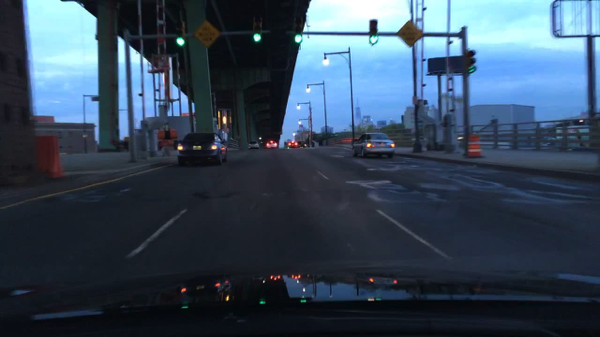car: (174, 131, 228, 168), (351, 132, 397, 160), (286, 139, 300, 149), (264, 140, 278, 148), (247, 140, 259, 148)
traffic light: (176, 18, 187, 46), (252, 14, 262, 42), (466, 49, 476, 74), (369, 18, 377, 45), (295, 16, 302, 44)
traffic sign: (193, 19, 219, 48), (395, 21, 423, 47)
